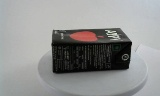appy: (47, 28, 124, 73)
